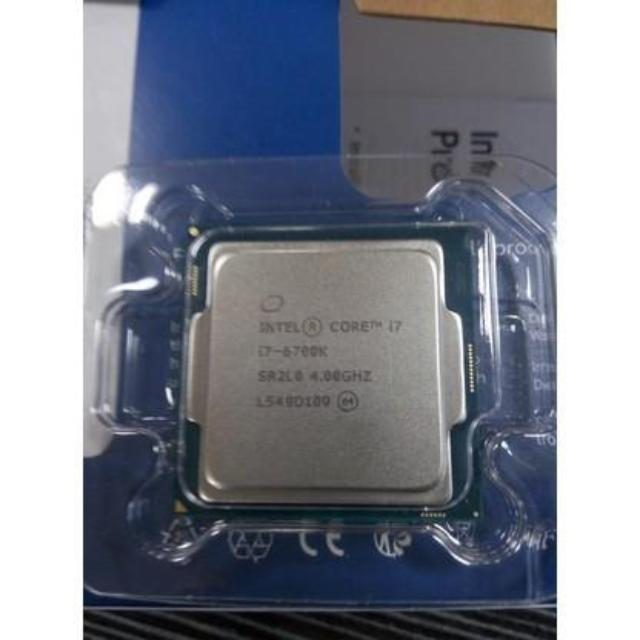CPU: (193, 227, 464, 513)
